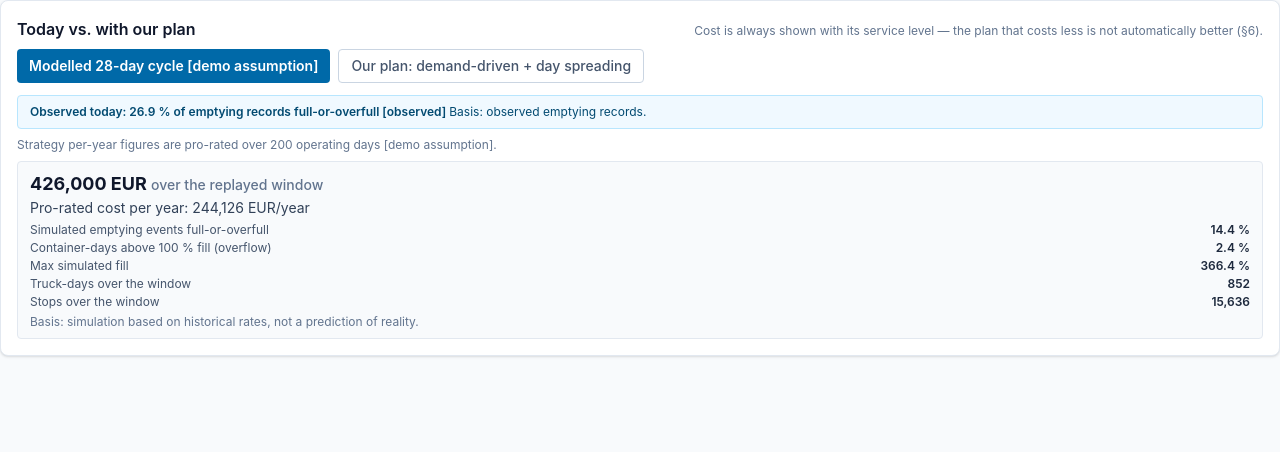
Test case: TodayPlanToggle — cost + service together (§6) › flags cost-more-AND-service-worse as dominated on both (red, matrix case 1)
Click the button with test id "toggle-plan" at (491, 66), box top-left (338, 49), bottom-right (644, 83)
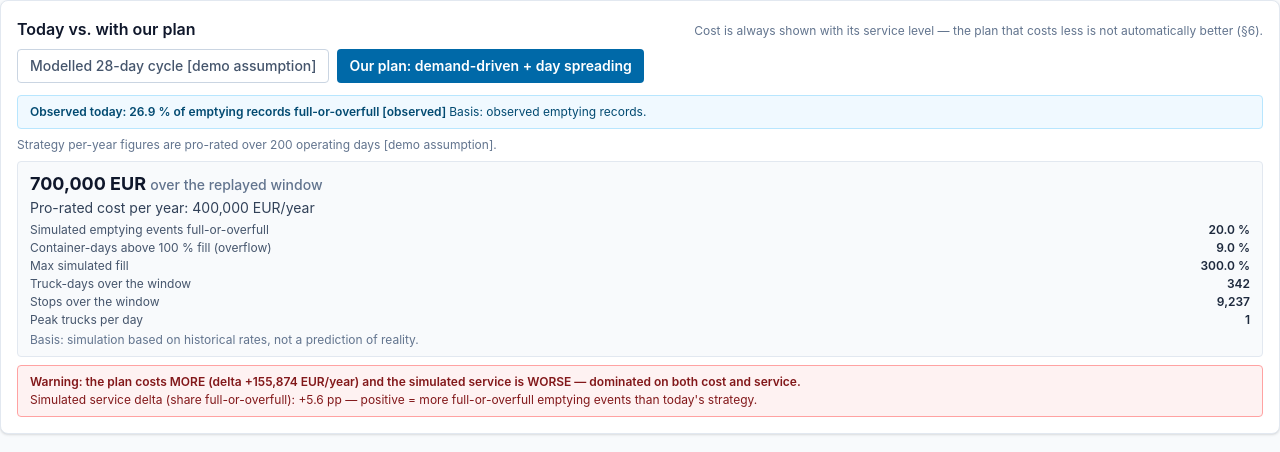
Result: the element with test id "toggle-tradeoff" shows "costs MORE" at top-left (30, 374), bottom-right (801, 389)
Result: the element with test id "toggle-tradeoff" shows "WORSE" at top-left (30, 374), bottom-right (801, 389)
Result: the element with test id "toggle-tradeoff" shows "dominated on both" at top-left (30, 374), bottom-right (801, 389)
